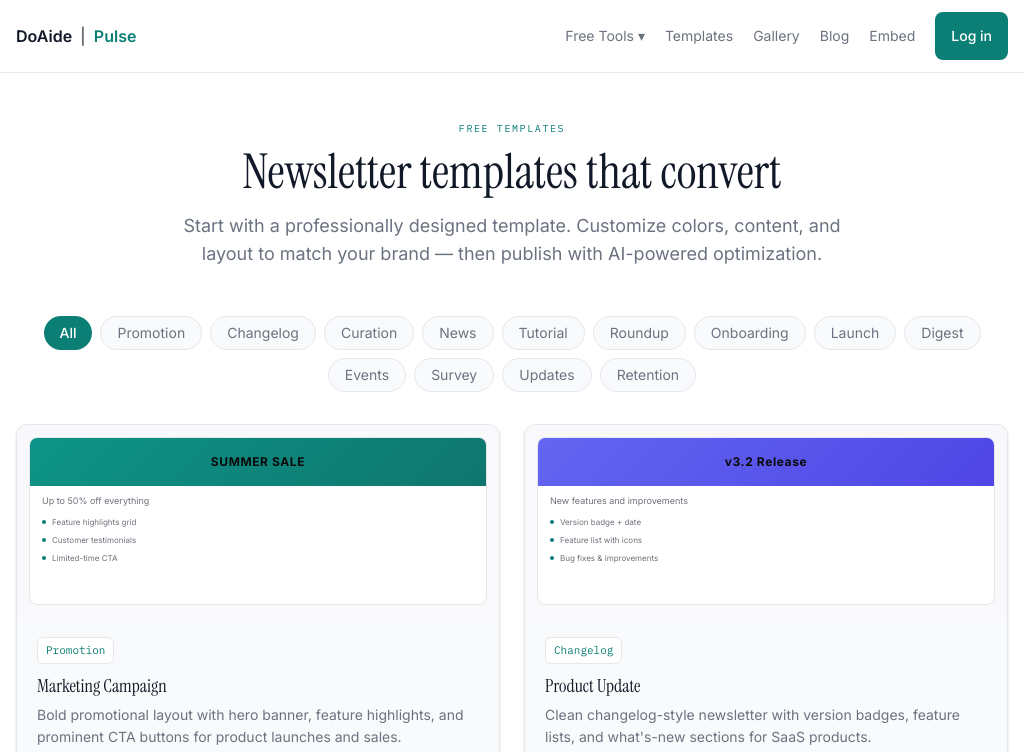
TemplatesGallery › filters the grid by category
The image size is (1024, 752).
Step 1. Click the tab "Promotion" → (151, 333), box [100,316,202,350]
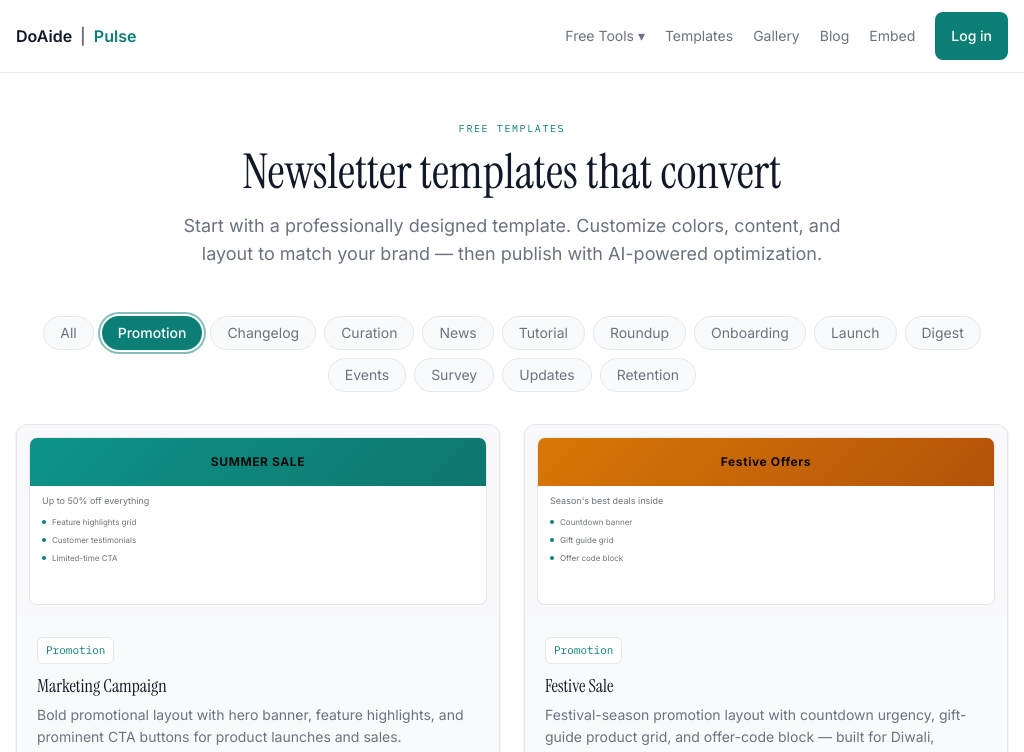
expect the heading "Festive Sale" is shown: met, box [545,674,613,698]
expect the heading "Product Update" is gone: met
Step 2. Click the tab "All" → (69, 333), box [43,316,94,350]
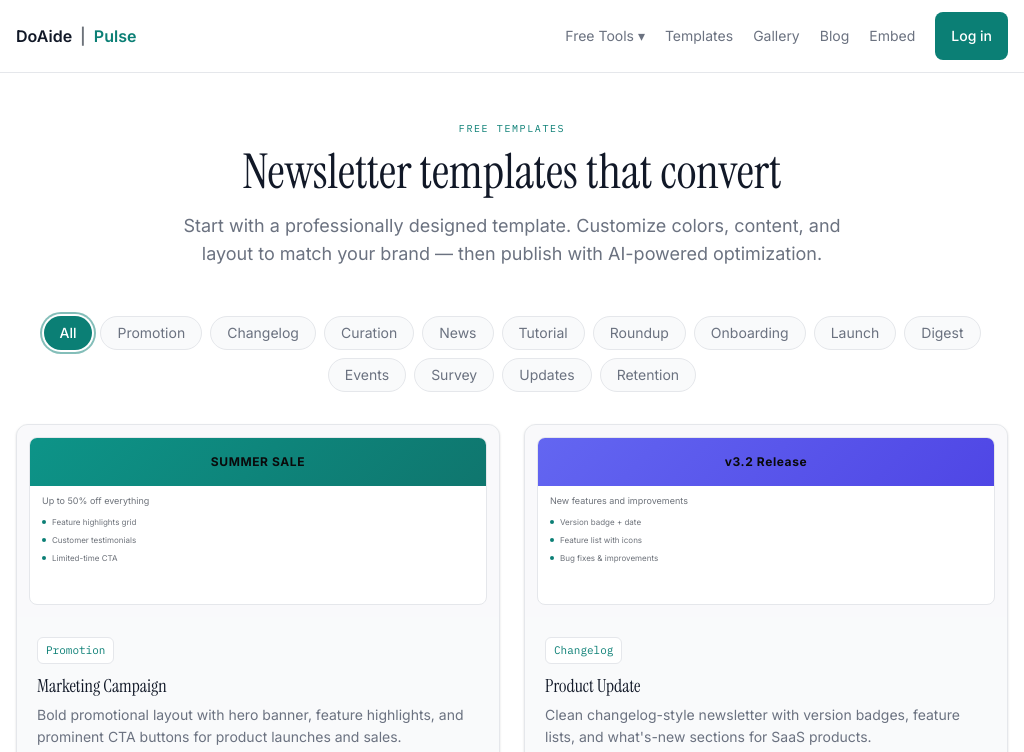
expect the number of links "Use Template" is 15: met
